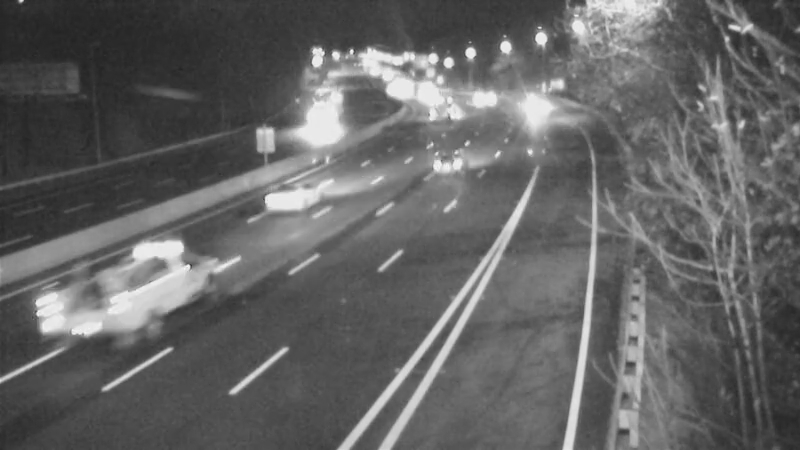vehicle: (39, 256, 149, 366), (408, 125, 488, 205), (250, 159, 330, 239), (462, 73, 512, 123), (504, 79, 554, 129), (403, 85, 453, 135), (291, 95, 341, 145)
